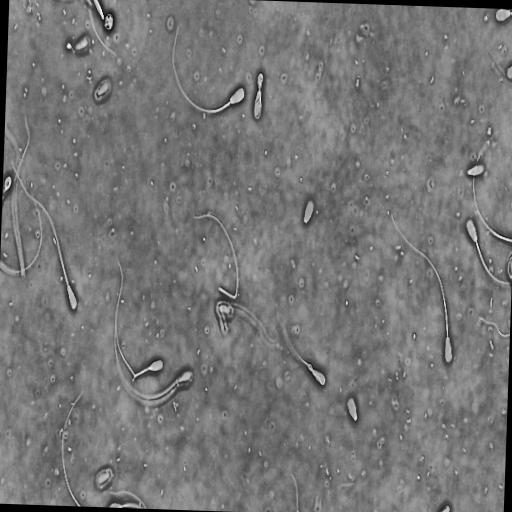coiled-tail: (307, 363, 325, 385), (254, 97, 261, 118), (257, 73, 263, 97)
dirt-particles: (103, 11, 115, 32), (65, 40, 73, 52)
folded-tail: (114, 260, 148, 377)
loose-head: (301, 195, 316, 227), (345, 393, 359, 423), (465, 161, 486, 178), (92, 0, 105, 20), (505, 62, 512, 81)
loose-tail: (471, 129, 512, 246), (191, 210, 241, 302), (0, 187, 44, 276), (60, 384, 85, 506)
normal: (8, 154, 78, 312), (389, 209, 455, 370), (171, 21, 246, 116), (113, 254, 165, 380), (112, 325, 194, 403), (464, 216, 511, 287), (296, 353, 329, 391), (250, 66, 265, 124)
